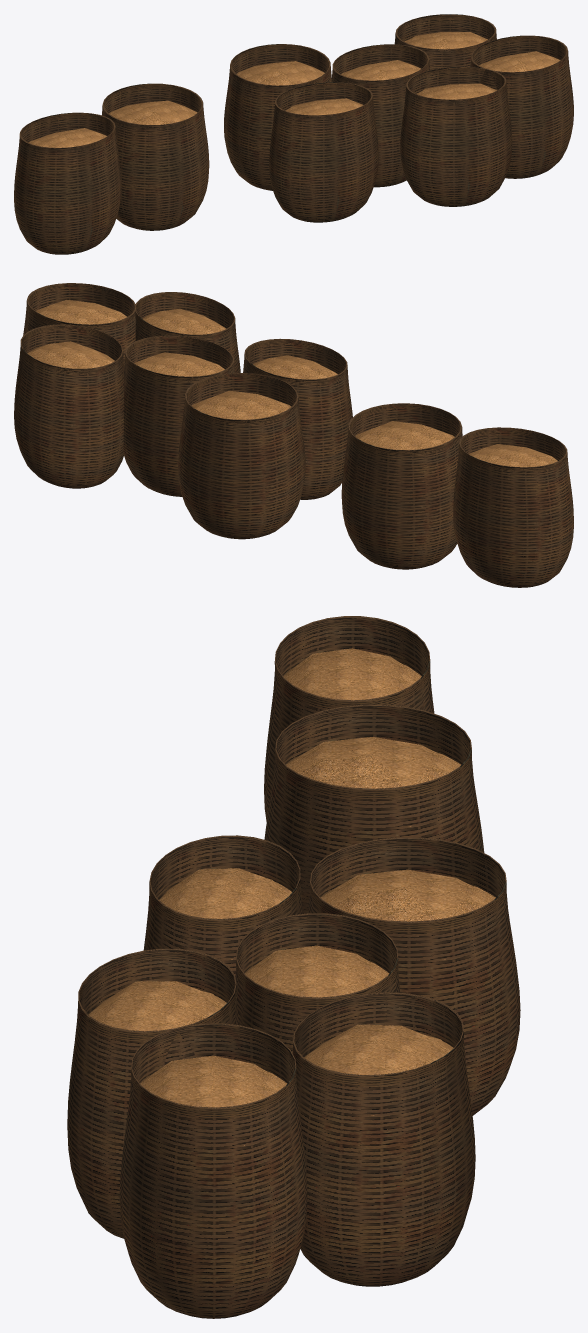
The model's file is B49_Cesto_Grains.FBX.
3 renders of one model, top to bottom at view 1: azimuth 30°, elevation 25°; view 2: azimuth 150°, elevation 25°; view 3: azimuth 270°, elevation 25°, orthographic. The views are drawn at different scales.
Visible parts, largest first — view 1: Grains_cesto plaited005; view 2: Grains_cesto plaited005; view 3: Grains_cesto plaited005.
Boxes of the visible parts, x1,y1,x2,y2 form: Grains_cesto plaited005: [14, 14, 573, 254]; Grains_cesto plaited005: [14, 283, 573, 587]; Grains_cesto plaited005: [67, 616, 520, 1318].
Size of the model in its own units: 169 by 35.42 by 64.36.
Materials: 2 (2 with a texture image).
